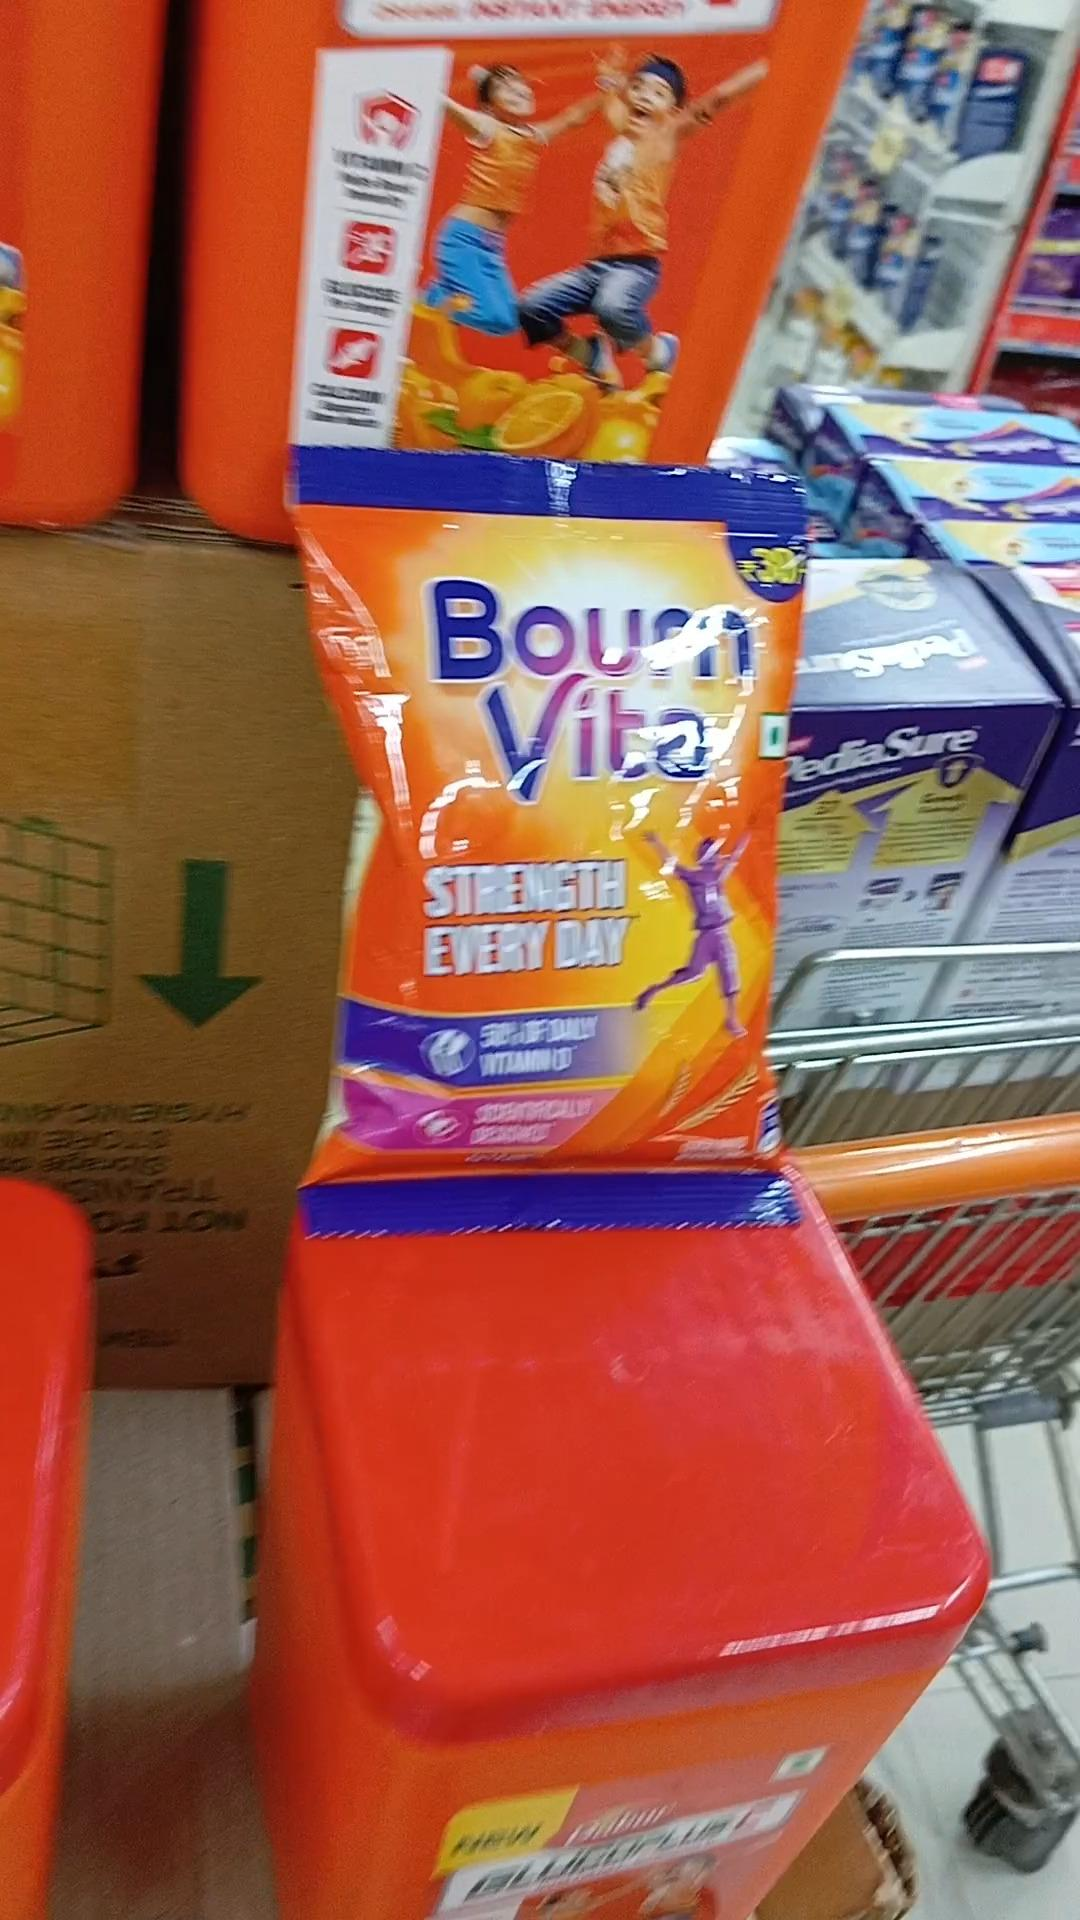BOURN_VITA_75_G_POUCH: (298, 447, 802, 1245)
